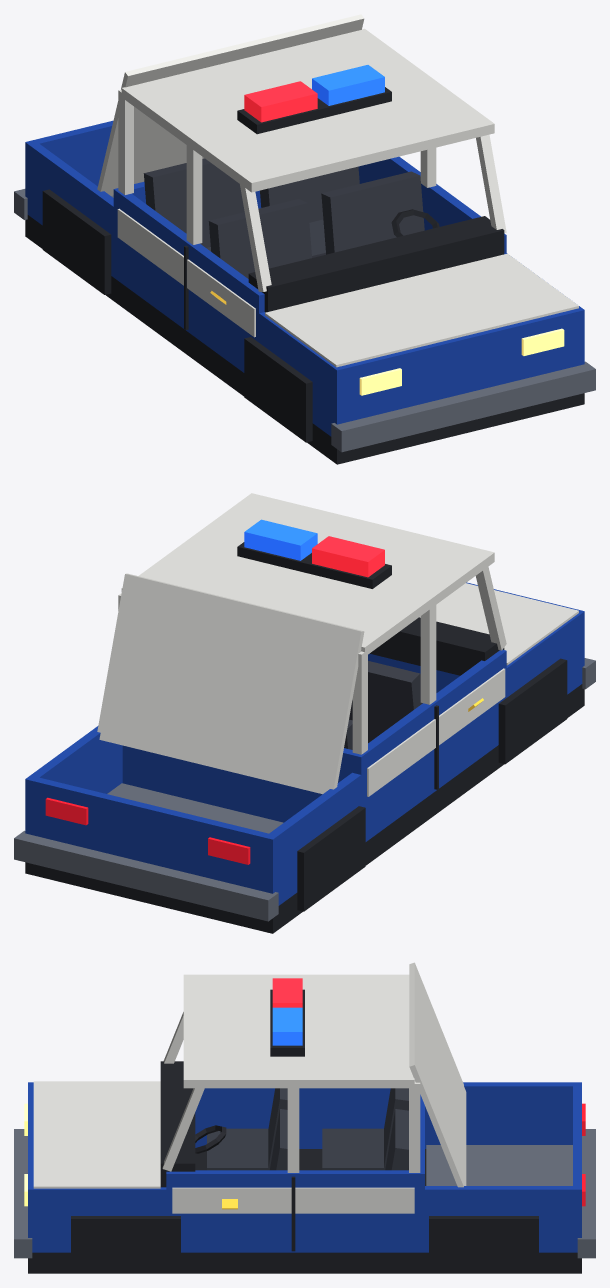
The model's file is patrol_car.glb.
3 renders of one model, top to bottom at view 1: azimuth 30°, elevation 25°; view 2: azimuth 150°, elevation 25°; view 3: azimuth 270°, elevation 25°, orthographic. The views are drawn at different scales.
Visible parts, largest first — view 1: body_car_white, body_police_blue, body_car_black, seats_seat, body_car_grey, trunk_car_white, trunk_police_blue, frame_car_white, siren_red_siren_red, siren_blue_siren_blue, siren_car_black, lights_lamp; view 2: trunk_car_white, body_car_white, trunk_police_blue, body_police_blue, body_car_black, trunk_car_grey, frame_car_white, seats_seat, siren_red_siren_red, siren_blue_siren_blue, siren_car_black, lights_tail; view 3: body_car_white, body_police_blue, body_car_black, trunk_police_blue, seats_seat, trunk_car_grey, trunk_car_white, frame_car_white, body_car_grey, siren_blue_siren_blue, siren_red_siren_red, siren_car_black.
Part boxes in pixels (bbox=[...]): body_car_white: bbox=[117, 28, 578, 367]; body_police_blue: bbox=[113, 156, 584, 436]; body_car_black: bbox=[25, 189, 584, 464]; seats_seat: bbox=[143, 158, 424, 278]; body_car_grey: bbox=[331, 361, 595, 452]; trunk_car_white: bbox=[97, 14, 364, 195]; trunk_police_blue: bbox=[25, 120, 116, 278]; frame_car_white: bbox=[118, 89, 506, 291]; siren_red_siren_red: bbox=[244, 81, 317, 122]; siren_blue_siren_blue: bbox=[312, 65, 384, 105]; siren_car_black: bbox=[237, 87, 391, 134]; lights_lamp: bbox=[359, 328, 564, 395]; trunk_car_white: bbox=[97, 573, 364, 794]; body_car_white: bbox=[121, 493, 578, 796]; trunk_police_blue: bbox=[25, 726, 363, 905]; body_police_blue: bbox=[122, 582, 584, 841]; body_car_black: bbox=[25, 617, 584, 933]; trunk_car_grey: bbox=[14, 783, 283, 921]; frame_car_white: bbox=[118, 566, 506, 754]; seats_seat: bbox=[344, 661, 422, 749]; siren_red_siren_red: bbox=[312, 536, 384, 577]; siren_blue_siren_blue: bbox=[244, 519, 317, 560]; siren_car_black: bbox=[237, 542, 391, 588]; lights_tail: bbox=[45, 797, 250, 864]; body_car_white: bbox=[33, 974, 414, 1213]; body_police_blue: bbox=[28, 1082, 424, 1252]; body_car_black: bbox=[28, 1061, 581, 1273]; trunk_police_blue: bbox=[420, 1082, 581, 1252]; seats_seat: bbox=[207, 1088, 408, 1170]; trunk_car_grey: bbox=[426, 1129, 595, 1258]; trunk_car_white: bbox=[409, 962, 466, 1187]; frame_car_white: bbox=[162, 1012, 420, 1172]; body_car_grey: bbox=[14, 1129, 32, 1258]; siren_blue_siren_blue: bbox=[272, 1007, 302, 1045]; siren_red_siren_red: bbox=[272, 978, 302, 1007]; siren_car_black: bbox=[270, 989, 304, 1056].
Size of the model in its own units: 2.35 by 2.05 by 5.04.
